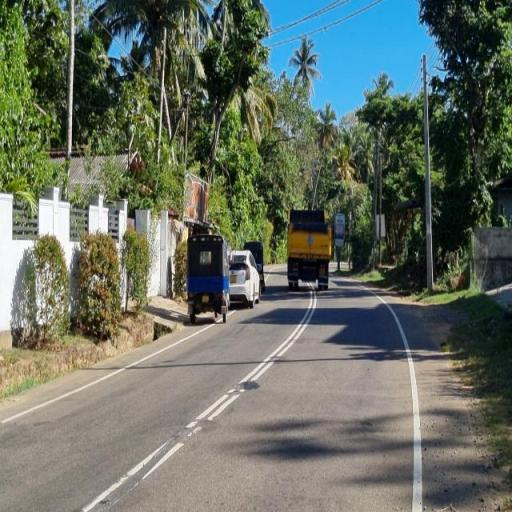double_white_line: (190, 291, 315, 434)
